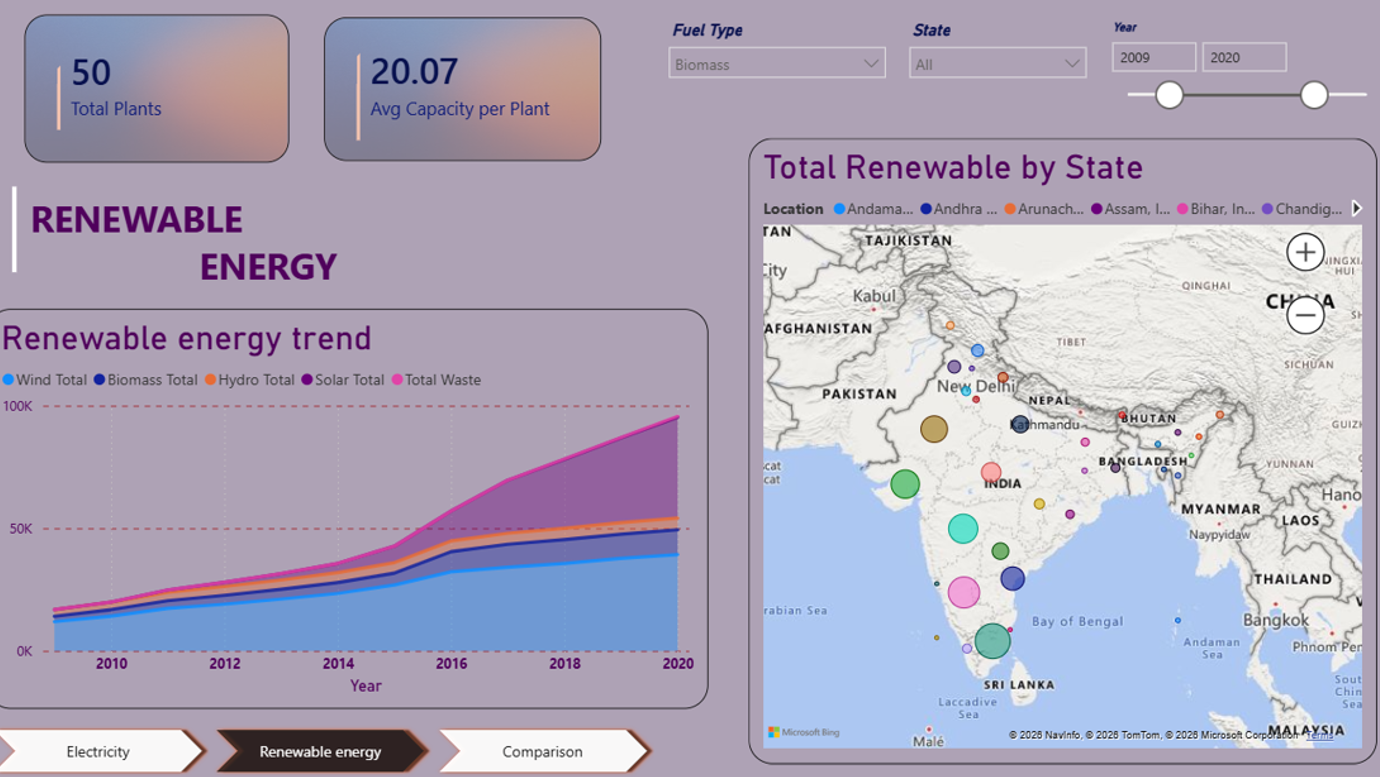

The dashboard page shown, as its layout file describes it:
{"tool":"powerbi","page":{"name":"Renewable energy","canvas":[1280,720],"ordinal":1},"visuals":[{"type":"image","box":[325.1,24.4,245.2,127.4],"z":0},{"type":"image","box":[59.6,21.7,234.4,131.4],"z":1000},{"type":"cardVisual","fields":{"Data":["India Power Plants.Total Plants"]},"box":[59.6,10.8,219.5,142.3],"z":2000},{"type":"cardVisual","fields":{"Data":["India Power Plants.Avg Capacity per Plant"]},"box":[325.1,0,294,162.6],"z":3000},{"type":"map","title":"Total Renewable by State ","fields":{"Size":["India Renewable Consumption.Total Renewable"],"Series":["India Renewable Consumption.Location"],"Category":["India Renewable Consumption.State"]},"box":[701.8,131.4,556.8,554.1],"z":4000},{"type":"slicer","fields":{"Values":["India Renewable Consumption.State"]},"box":[833.7,21.7,177.3,90.5],"z":5000},{"type":"slicer","fields":{"Values":["India Renewable Consumption.Year"]},"box":[1011,21.7,259.4,106.2],"z":6000},{"type":"stackedAreaChart","title":"Renewable energy trend","fields":{"Y":["India Renewable Consumption.Wind Total","India Renewable Consumption.Biomass Total","India Renewable Consumption.Hydro Total","India Renewable Consumption.Solar Total","India Renewable Consumption.Total Waste"],"Category":["India Renewable Consumption.Year"]},"box":[26.2,282.1,639.3,354.8],"z":7000},{"type":"pageNavigator","box":[26.2,648.8,592.9,50],"z":8000},{"type":"slicer","fields":{"Values":["India Power Plants.Fuel Type"]},"box":[620.1,21.7,212.3,78.4],"z":9000},{"type":"textbox","box":[59.6,174.8,437.6,149],"z":10000},{"type":"shape","box":[0,173.4,101,75.9],"z":11000}]}

Visuals, with their boxes in screenshot pixels (x1, y1, x2, y2), scaled from the page's 1280x720 canvas onto the 1380x777 screenshot:
image: (left=350, top=26, right=615, bottom=164)
image: (left=64, top=23, right=317, bottom=165)
cardVisual - India Power Plants.Total Plants: (left=64, top=12, right=301, bottom=165)
cardVisual - India Power Plants.Avg Capacity per Plant: (left=350, top=0, right=667, bottom=175)
"Total Renewable by State " map: (left=757, top=142, right=1357, bottom=740)
slicer - India Renewable Consumption.State: (left=899, top=23, right=1090, bottom=121)
slicer - India Renewable Consumption.Year: (left=1090, top=23, right=1370, bottom=138)
"Renewable energy trend" stackedAreaChart: (left=28, top=304, right=717, bottom=687)
pageNavigator: (left=28, top=700, right=667, bottom=754)
slicer - India Power Plants.Fuel Type: (left=669, top=23, right=897, bottom=108)
textbox: (left=64, top=189, right=536, bottom=349)
shape: (left=0, top=187, right=109, bottom=269)
